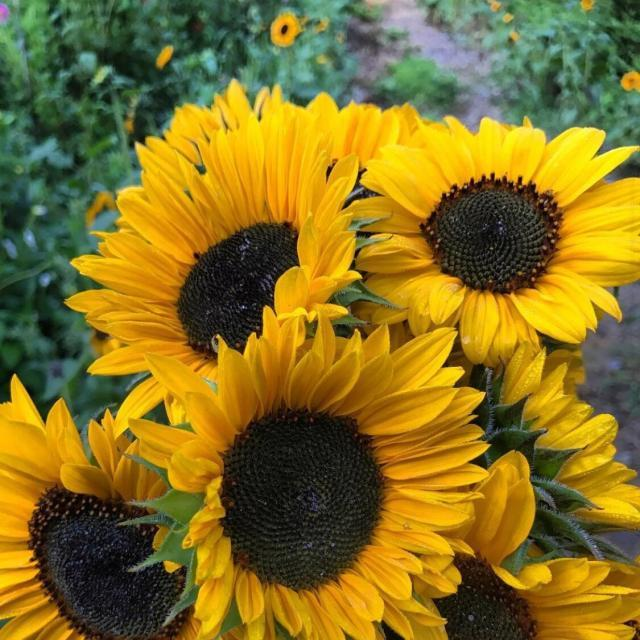sunflower: (124, 305, 492, 639), (64, 100, 367, 440), (346, 112, 638, 368), (0, 374, 242, 640), (117, 80, 434, 258), (411, 449, 639, 639), (482, 342, 639, 534), (269, 12, 301, 47), (86, 328, 119, 357), (620, 70, 640, 92)
